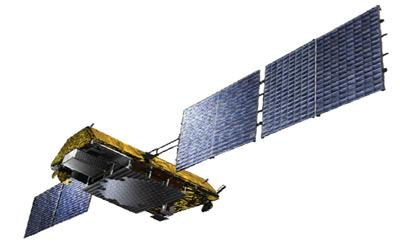body: (48, 121, 228, 224)
solar: (172, 1, 389, 175), (22, 173, 98, 242)
